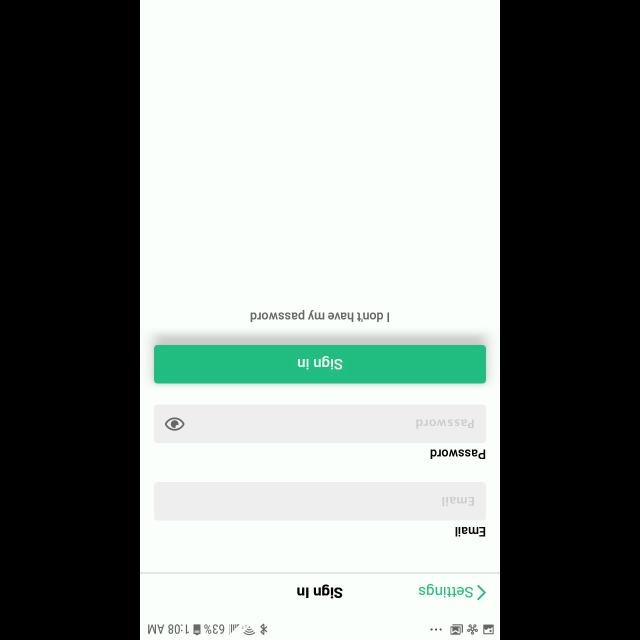icon: (165, 418, 185, 430), (476, 584, 486, 600)
input: (154, 404, 486, 444), (154, 482, 486, 520)
text: (250, 310, 390, 322), (419, 583, 473, 597), (298, 584, 342, 598), (416, 419, 474, 429), (430, 449, 486, 459), (442, 496, 474, 506), (455, 527, 485, 537)
textbutton: (154, 344, 486, 384)
uppertaskbar: (140, 622, 500, 640)
